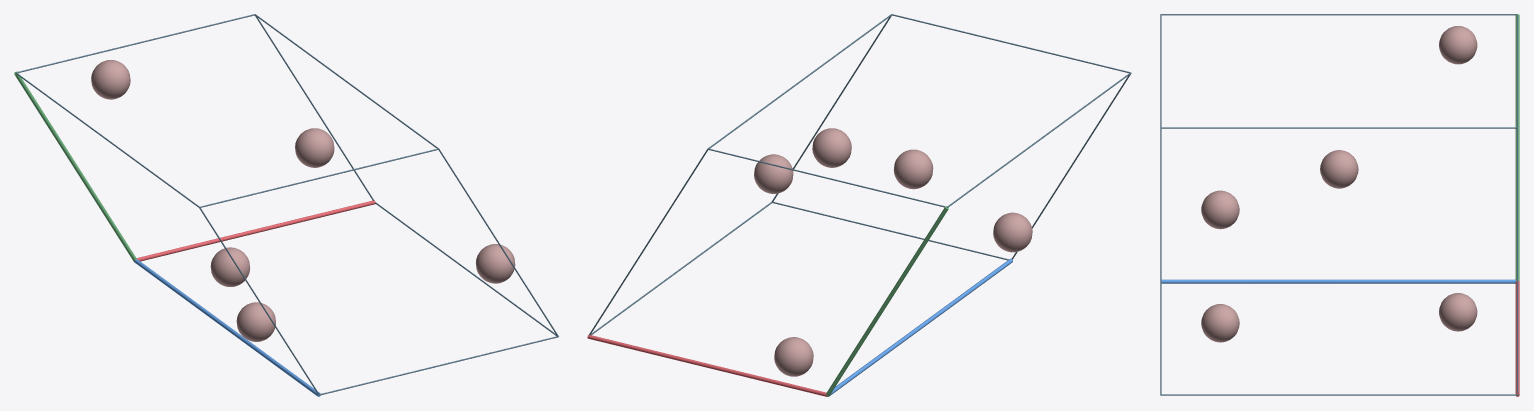
File: nguyen-to-te.glb
3 views of the same model, side by side, from view 1: azimuth 30°, elevation 25°; view 2: azimuth 150°, elevation 25°; view 3: azimuth 270°, elevation 25° (orthographic). The views are drawn at different scales.
Visible parts, largest first — view 1: Ô mạng và các trục a, b, c, Te · Te · 1 (×5); view 2: Ô mạng và các trục a, b, c, Te · Te · 1 (×5); view 3: Ô mạng và các trục a, b, c, Te · Te · 1 (×5).
Part boxes in pixels (x1,y1,x2,y2): Ô mạng và các trục a, b, c: (14,14,558,396); Te · Te · 1 (×5): (91,60,515,341); Ô mạng và các trục a, b, c: (587,14,1131,396); Te · Te · 1 (×5): (754,128,1032,376); Ô mạng và các trục a, b, c: (1160,14,1519,396); Te · Te · 1 (×5): (1201,26,1477,342).
Size of the model in its own units: 6.71 by 4.49 by 5.96.
